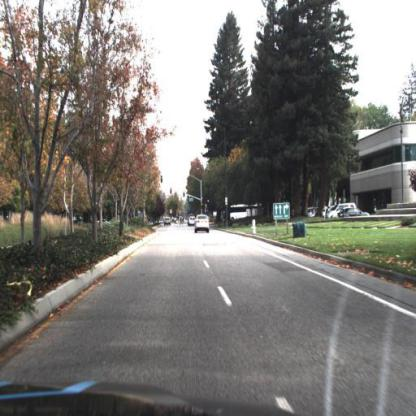car: (362, 194, 387, 217), (328, 203, 359, 217), (195, 212, 212, 233)
